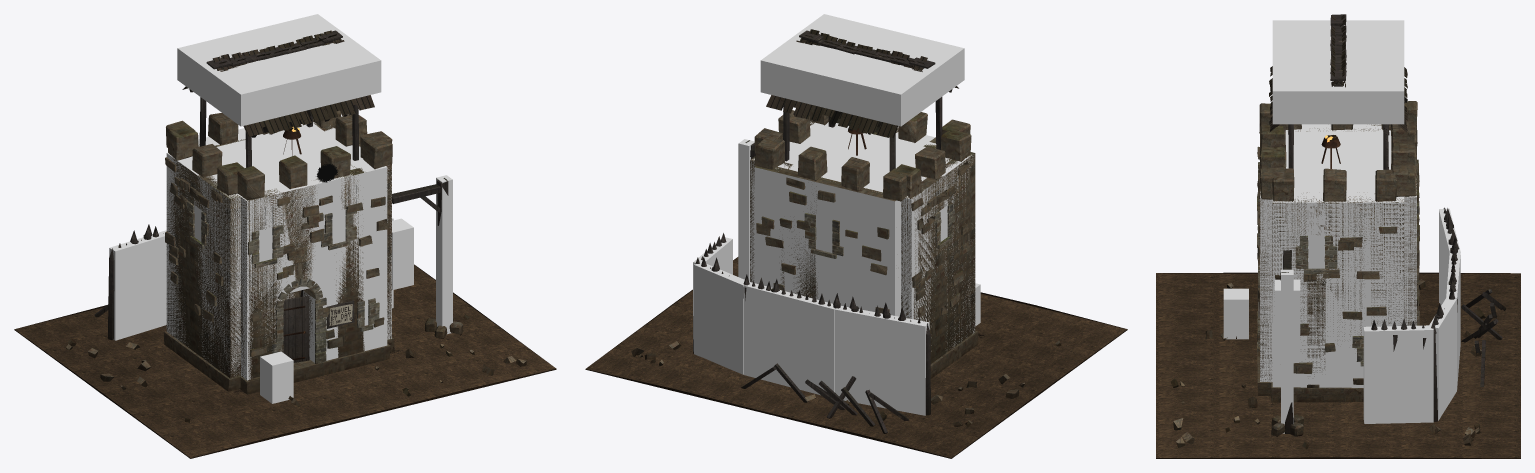
The model's file is bld_watchhouse_gibbet_shared_tex.glb.
The picture shows the model from 3 angles, left to right: view 1: azimuth 30°, elevation 25°; view 2: azimuth 150°, elevation 25°; view 3: azimuth 270°, elevation 25°; orthographic projection. The views are drawn at different scales.
Parts seen in each view (by area): view 1: ground_mud, lite_merge_03, col_watch_roof, lite_merge_08, col_wall_S_2, col_wall_W_0, col_palisade, col_wall_S_0, col_roof_floor, wall_S_stones, roof_watch_shingles, col_gibbet_post (+8 smaller); view 2: ground_mud, col_wall_N_0, col_watch_roof, lite_merge_08, lite_merge_03, col_palisade, col_palisade.001, col_palisade.002, col_roof_floor, col_wall_W_0, lite_merge_04, lite_merge_07 (+7 smaller); view 3: ground_mud, col_wall_E_0, lite_merge_03, col_watch_roof, col_palisade.003, col_roof_floor, lite_merge_07, lite_merge_04, col_wall_S_2, col_palisade.002, col_gibbet_post, col_wall_N_0 (+10 smaller).
Boxes of the visible parts, x1,y1,x2,y2 form: ground_mud: [14, 264, 556, 458]; lite_merge_03: [66, 110, 526, 422]; col_watch_roof: [177, 14, 381, 126]; lite_merge_08: [163, 157, 241, 391]; col_wall_S_2: [303, 165, 387, 362]; col_wall_W_0: [166, 153, 240, 375]; col_palisade: [109, 230, 166, 340]; col_wall_S_0: [241, 188, 282, 380]; col_roof_floor: [188, 122, 369, 196]; wall_S_stones: [248, 209, 379, 364]; roof_watch_shingles: [182, 30, 374, 136]; col_gibbet_post: [436, 175, 452, 334]; ground_mud: [585, 257, 1127, 458]; col_wall_N_0: [754, 167, 900, 316]; col_watch_roof: [760, 14, 964, 126]; lite_merge_08: [901, 152, 978, 378]; lite_merge_03: [631, 105, 1061, 427]; col_palisade: [834, 306, 929, 415]; col_palisade.001: [744, 282, 835, 395]; col_palisade.002: [694, 261, 750, 374]; col_roof_floor: [778, 122, 951, 192]; col_wall_W_0: [901, 154, 975, 351]; lite_merge_04: [693, 233, 930, 433]; lite_merge_07: [755, 162, 895, 313]; ground_mud: [1156, 272, 1520, 458]; col_wall_E_0: [1272, 191, 1404, 387]; lite_merge_03: [1171, 101, 1485, 449]; col_watch_roof: [1272, 20, 1404, 124]; col_palisade.003: [1363, 325, 1433, 423]; col_roof_floor: [1285, 126, 1391, 191]; lite_merge_07: [1271, 149, 1419, 402]; lite_merge_04: [1371, 207, 1506, 421]; col_wall_S_2: [1260, 191, 1272, 382]; col_palisade.002: [1428, 298, 1456, 420]; col_gibbet_post: [1281, 269, 1293, 433]; col_wall_N_0: [1404, 179, 1416, 325].
Size of the model in its own units: 12 by 9.65 by 10.
Materials: 15 (11 with a texture image).
